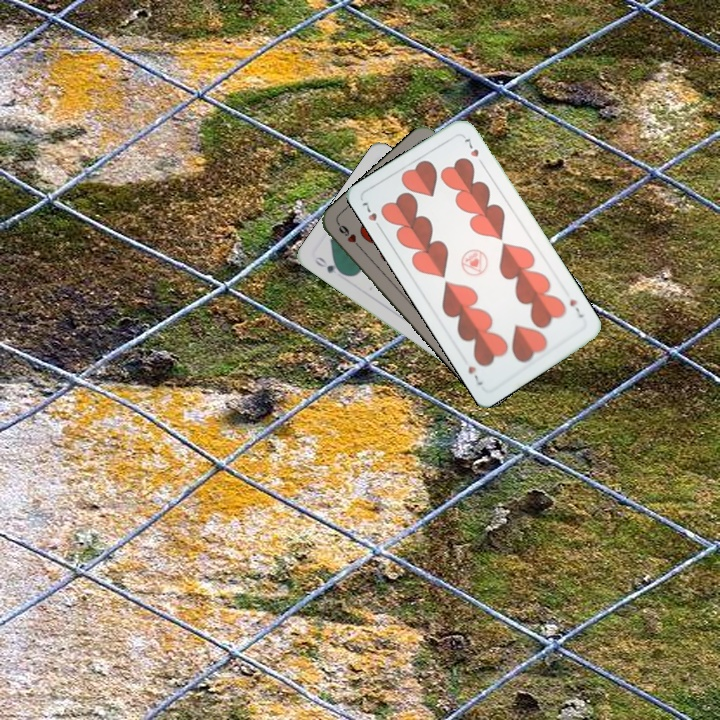GO: (310, 253, 348, 278)
H7: (358, 198, 385, 233), (565, 295, 586, 321)
H9: (334, 219, 365, 252)
